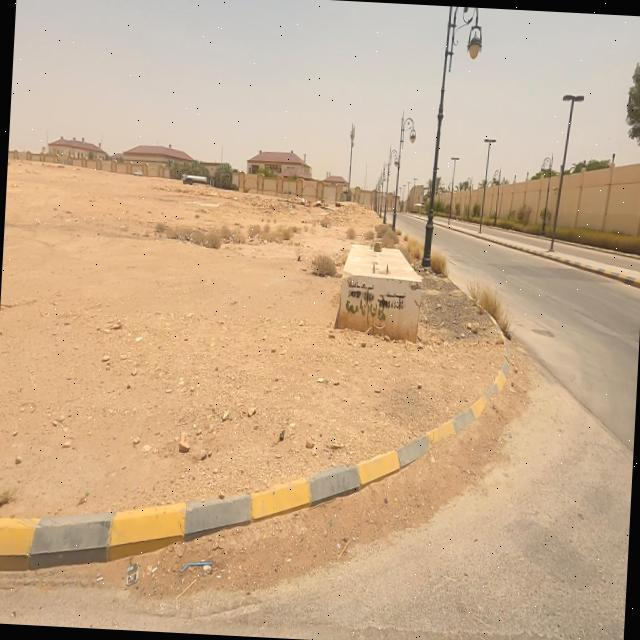Graffiti: (344, 279, 409, 324)
